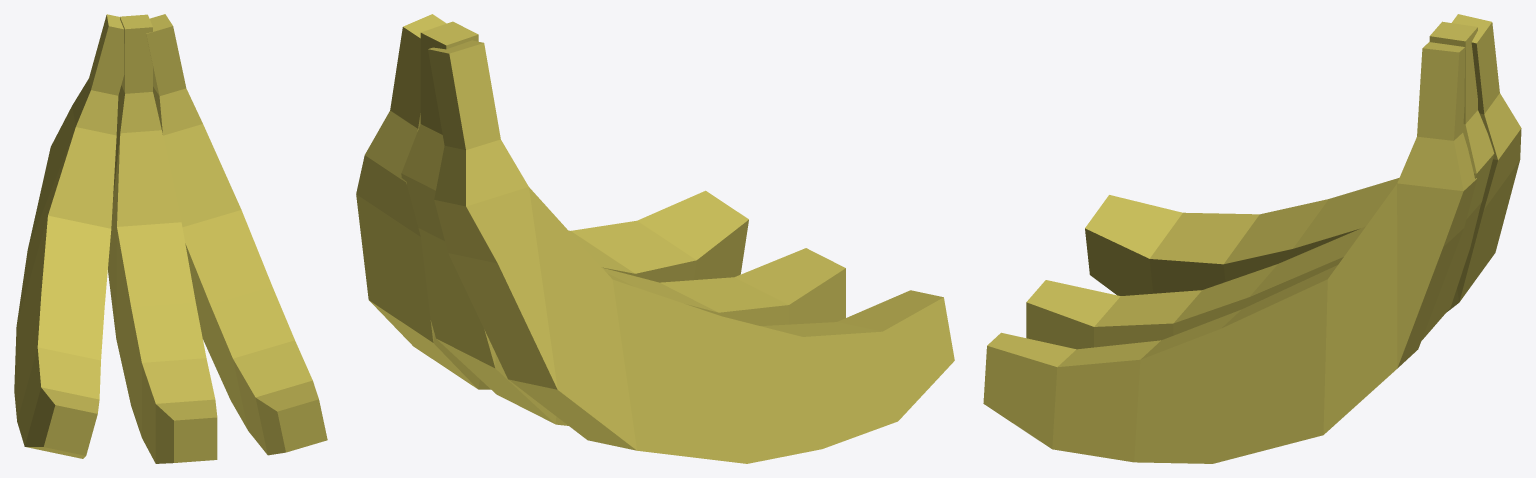
Rendered from banana01.fbx.
3 renders of one model, left to right at view 1: azimuth 30°, elevation 25°; view 2: azimuth 150°, elevation 25°; view 3: azimuth 270°, elevation 25°, orthographic. The views are drawn at different scales.
Parts seen in each view (by area): view 1: banana01; view 2: banana01; view 3: banana01.
Part boxes in pixels (x1,y1,x2,y2): banana01: [14, 14, 327, 463]; banana01: [356, 14, 954, 463]; banana01: [983, 14, 1521, 463].
Bounding box in the file's own units: 31.93 × 32.45 × 38.08.
